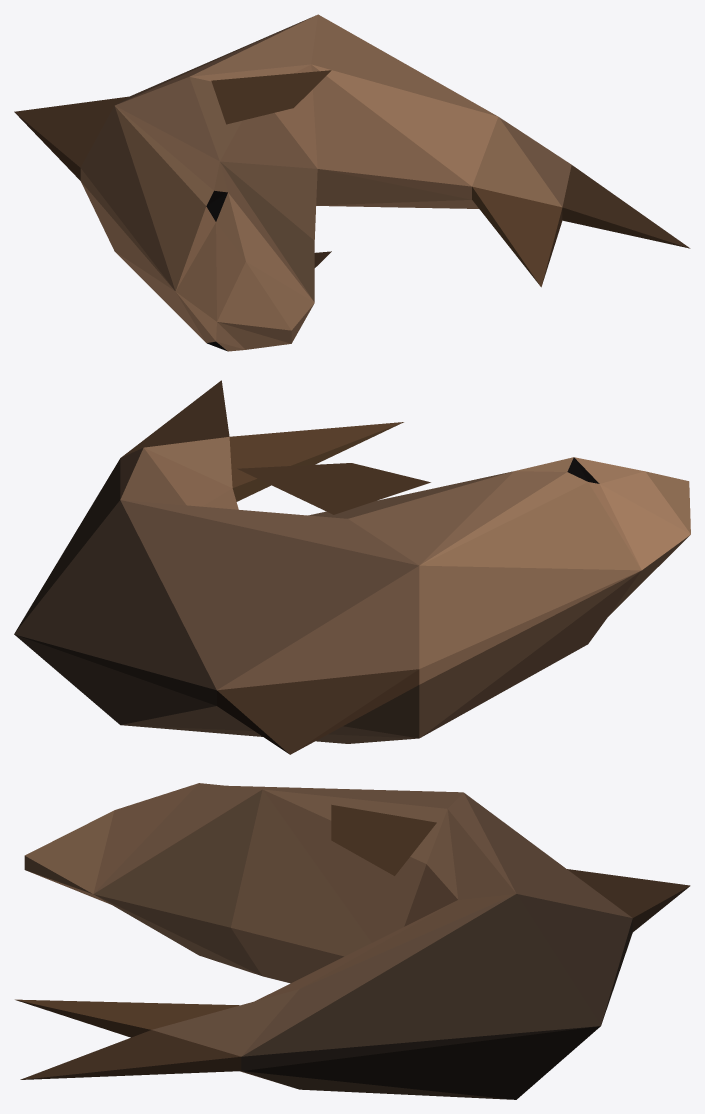
File: shark.obj
3 renders of one model, top to bottom at view 1: azimuth 30°, elevation 25°; view 2: azimuth 150°, elevation 25°; view 3: azimuth 270°, elevation 25°, orthographic. The views are drawn at different scales.
Visible parts, largest first — view 1: Item Shark 2026-09-13_16-42-06; view 2: Item Shark 2026-09-13_16-42-06; view 3: Item Shark 2026-09-13_16-42-06.
Part boxes in pixels (left/top/right/bottom): Item Shark 2026-09-13_16-42-06: left=14, top=14, right=690, bottom=351; Item Shark 2026-09-13_16-42-06: left=14, top=380, right=690, bottom=754; Item Shark 2026-09-13_16-42-06: left=15, top=783, right=690, bottom=1099.
Size of the model in its own units: 103 by 43 by 128.
